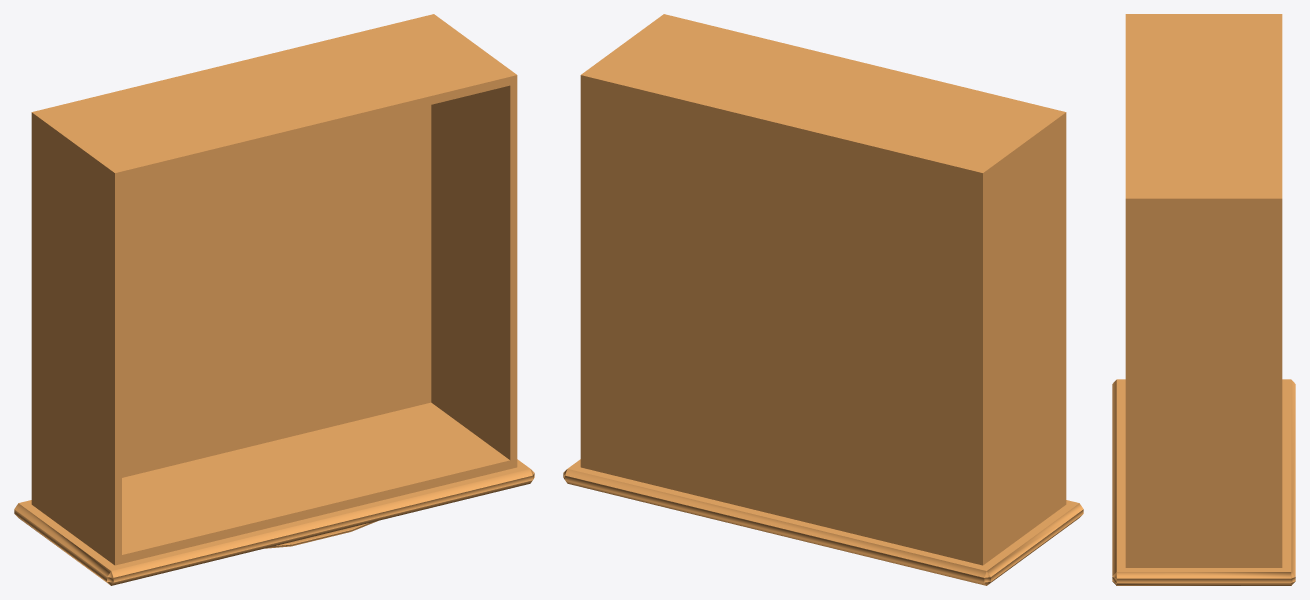
Rendered from DrawermeshDresserDrawer_213_8_10.obj.
The picture shows the model from 3 angles, left to right: view 1: azimuth 30°, elevation 25°; view 2: azimuth 150°, elevation 25°; view 3: azimuth 270°, elevation 25°; orthographic projection. The views are drawn at different scales.
Visible parts, largest first — view 1: DresserDrawer_213_8; view 2: DresserDrawer_213_8; view 3: DresserDrawer_213_8.
Boxes of the visible parts, left/top/right/bottom form: DresserDrawer_213_8: left=14, top=14, right=534, bottom=585; DresserDrawer_213_8: left=563, top=14, right=1083, bottom=585; DresserDrawer_213_8: left=1112, top=14, right=1295, bottom=585.
Size of the model in its own units: 0.5088 by 0.4821 by 0.201.
